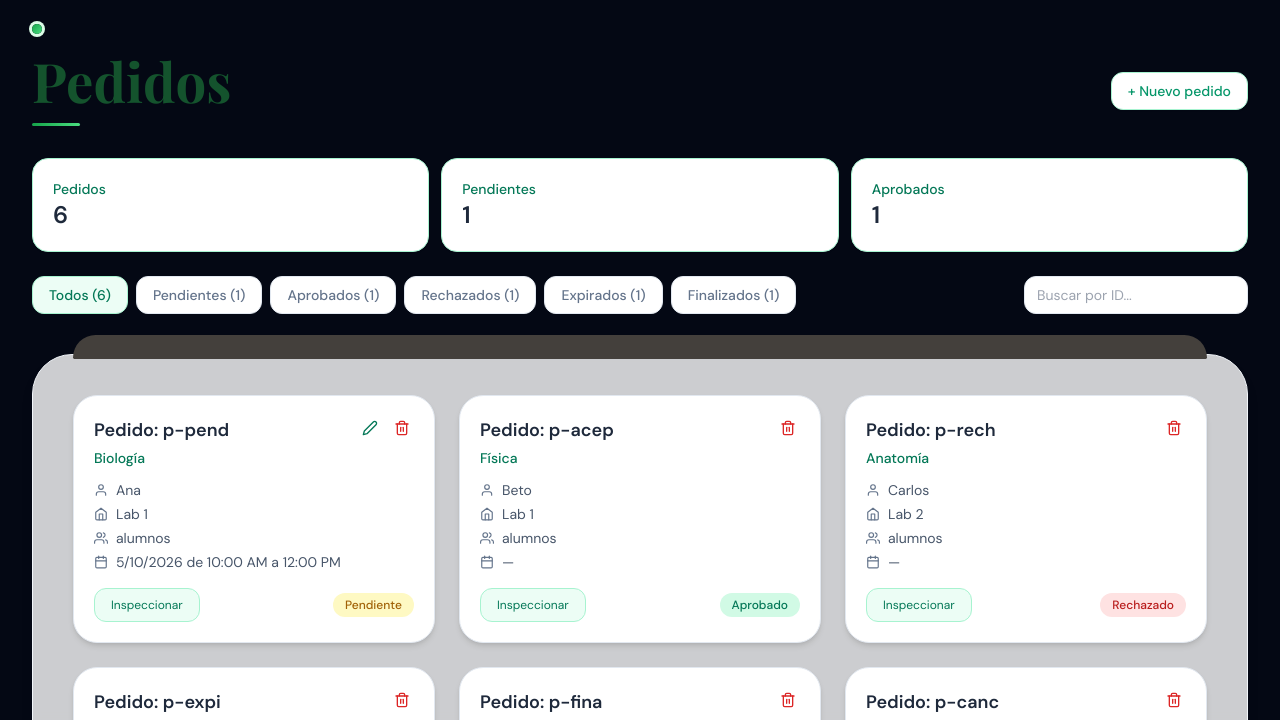
Test case: Pedidos — filtros y estados › usa el mensaje del backend si el borrado falla
Expected: the text "Biología" is shown, [94,449,145,467]
Click the button titled "Eliminar pedido" in the row of "p-pend". click: (402, 428)
box: [390,416,414,440]
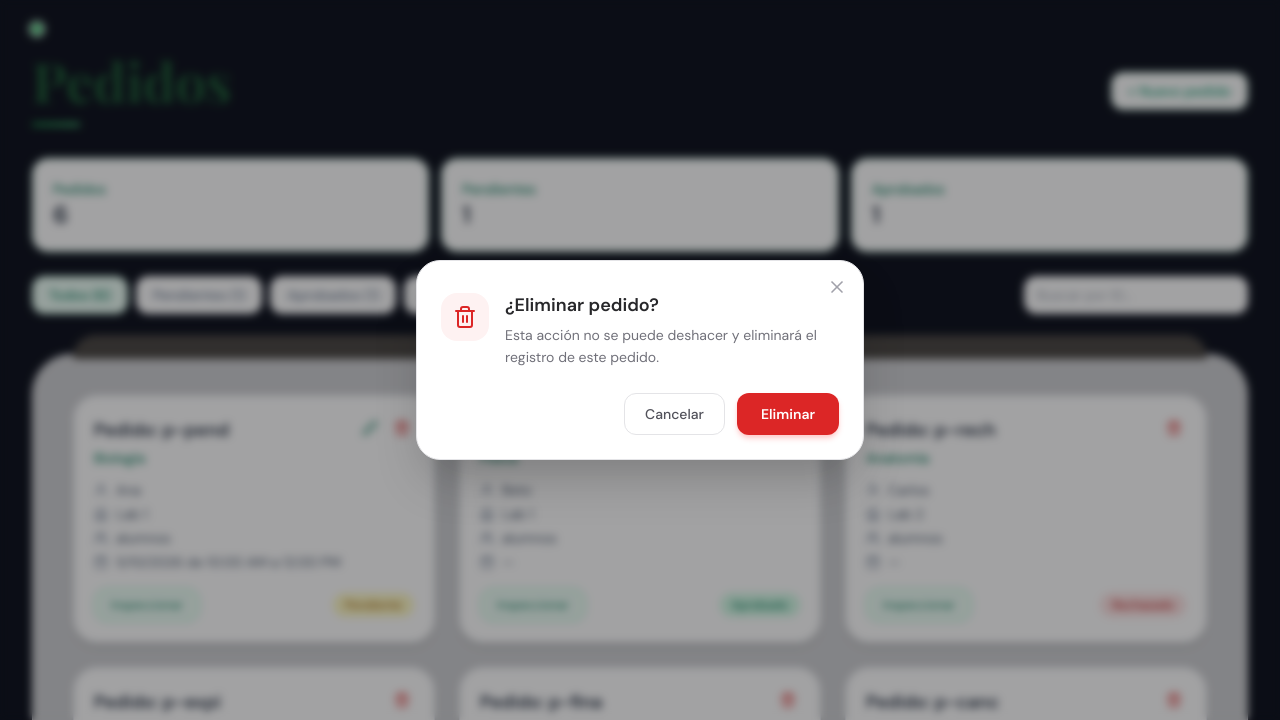
Click the button "Eliminar". click: (788, 414)
box: [737,393,839,435]
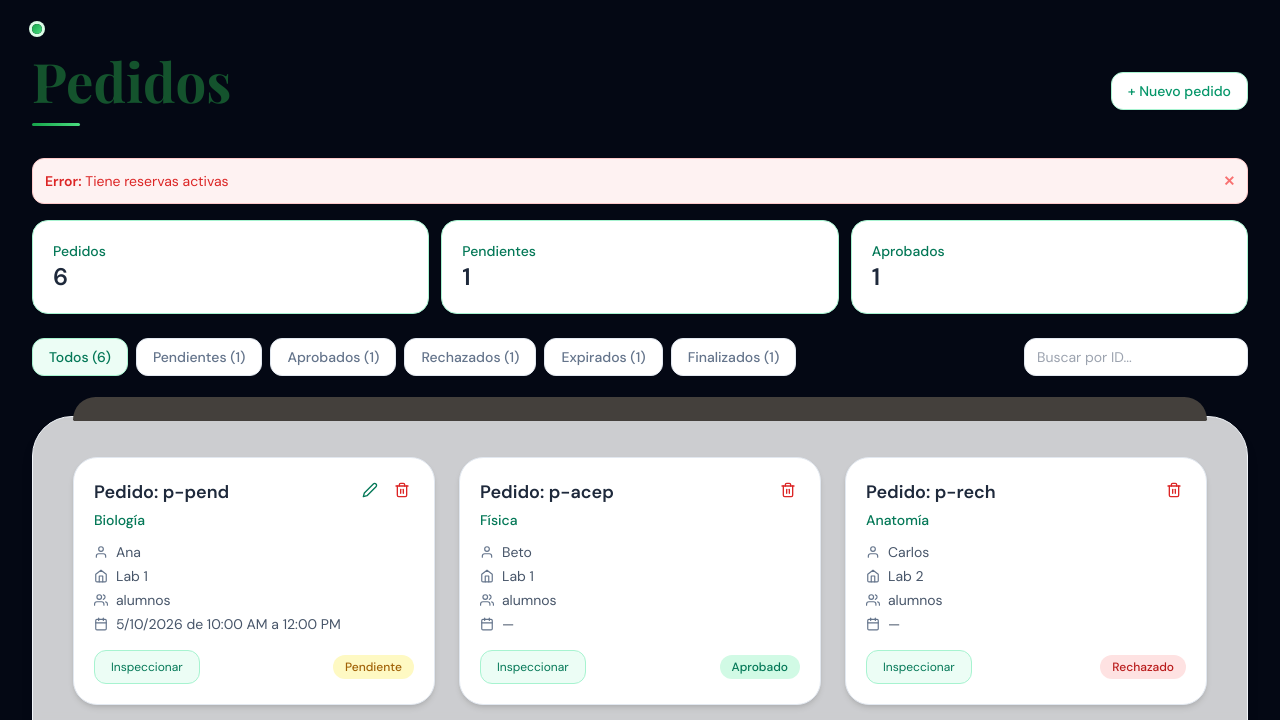
Expected: the text "Tiene reservas activas" is shown, [85,172,229,190]
